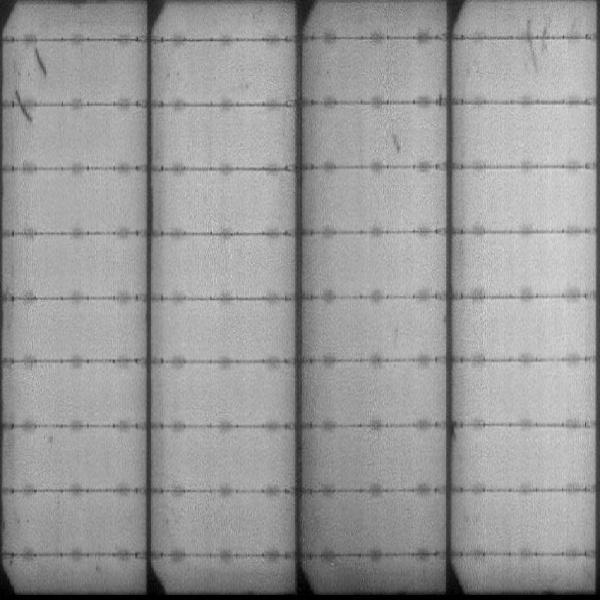scratch: (521, 18, 549, 68), (13, 87, 37, 124), (32, 47, 51, 78)
